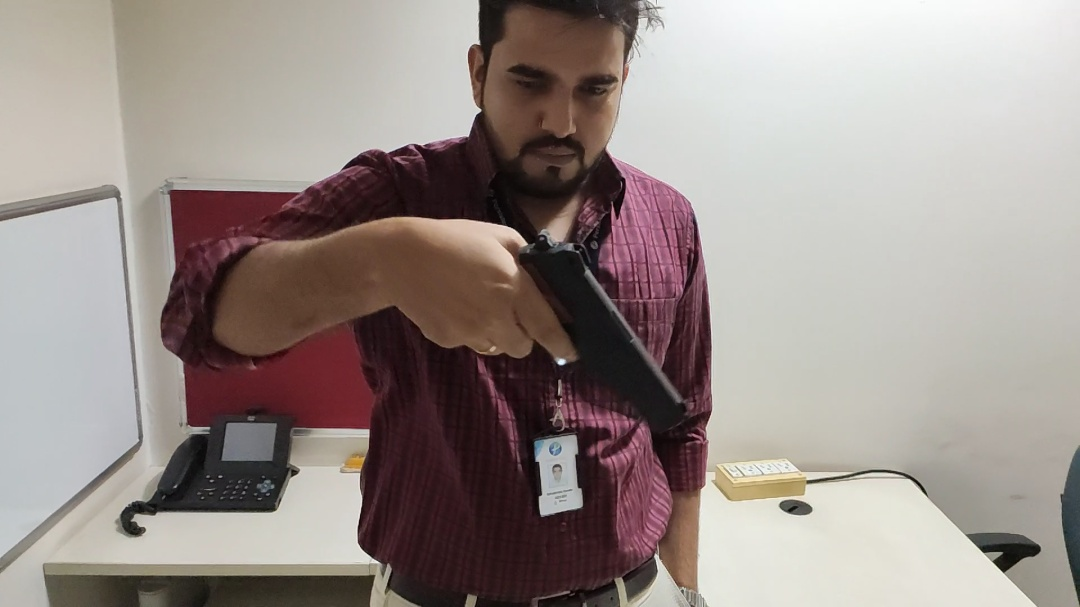gun: (454, 231, 700, 432)
